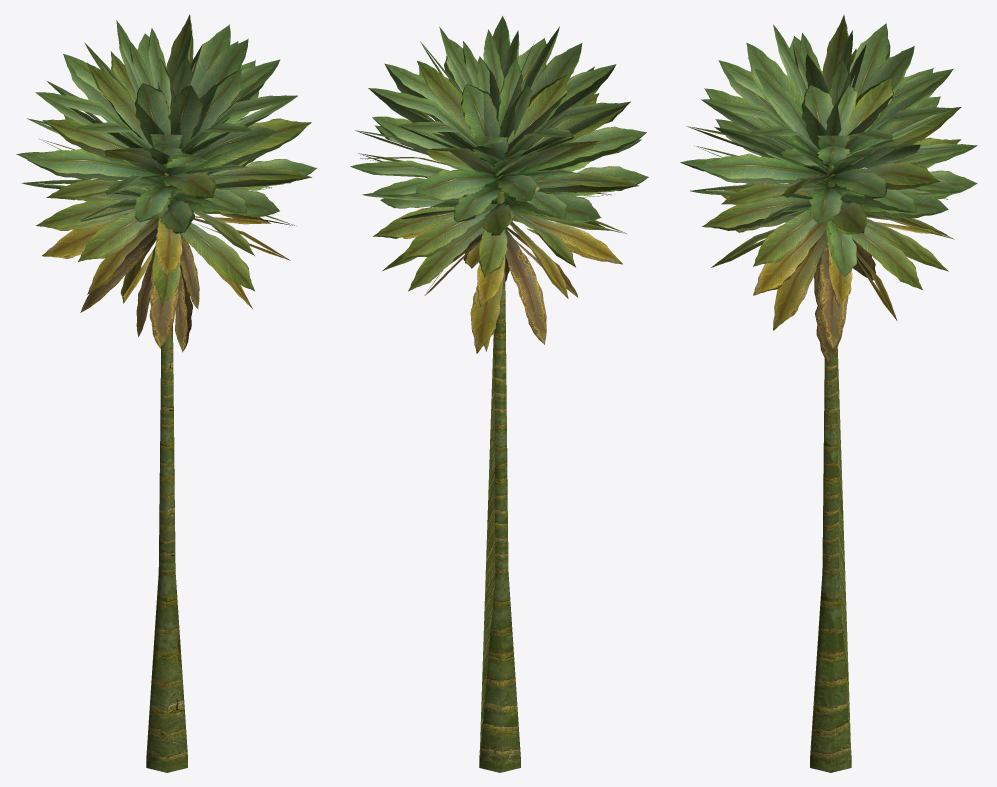
File: MK4_BallPalm2.DAE
The picture shows the model from 3 angles, left to right: view 1: azimuth 30°, elevation 25°; view 2: azimuth 150°, elevation 25°; view 3: azimuth 270°, elevation 25°; orthographic projection.
Visible parts, largest first — view 1: MK4_BallPalm200, MK4_BallPalm50; view 2: MK4_BallPalm200, MK4_BallPalm50; view 3: MK4_BallPalm200, MK4_BallPalm50.
Part boxes in pixels (x1,y1,x2,y2): MK4_BallPalm200: [17, 14, 316, 772]; MK4_BallPalm50: [16, 15, 315, 351]; MK4_BallPalm200: [350, 16, 648, 772]; MK4_BallPalm50: [351, 17, 646, 765]; MK4_BallPalm200: [680, 15, 977, 772]; MK4_BallPalm50: [681, 16, 976, 764].
Size of what is drawn, in the model's own units: 4.66 by 4.64 by 12.16.
